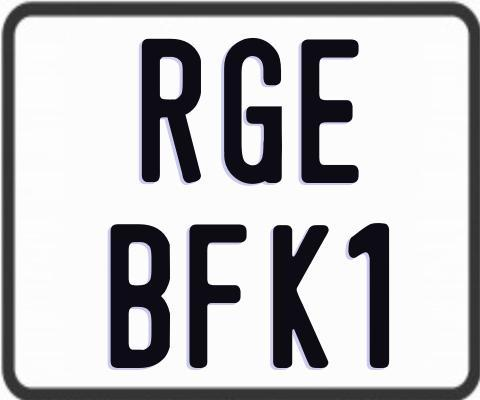1: (346, 221, 393, 369)
B: (110, 221, 170, 370)
E: (301, 38, 363, 183)
F: (186, 223, 249, 371)
G: (223, 36, 281, 183)
K: (271, 225, 331, 371)
R: (139, 38, 201, 187)
